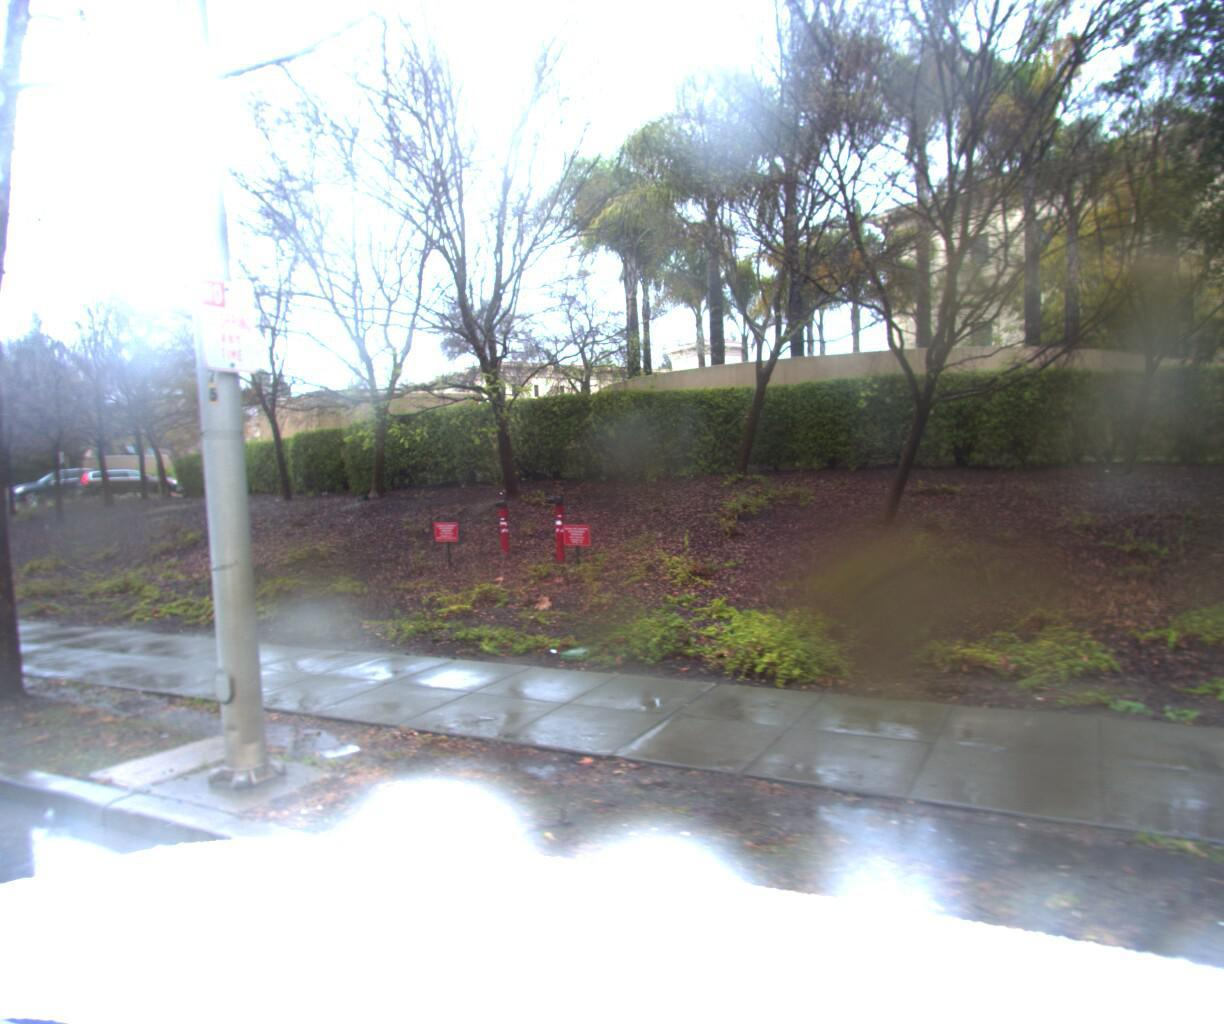car: (1, 468, 111, 506), (74, 470, 180, 507)
